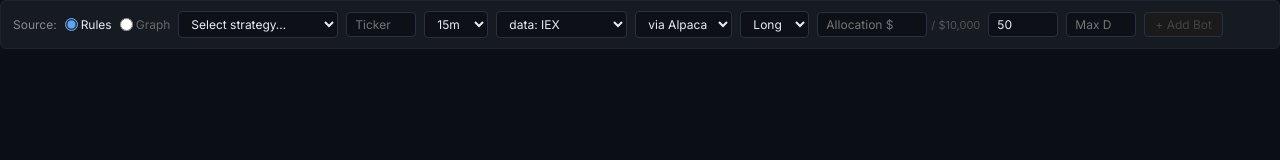
Test case: AddBotBar group selector (S36) › a 400 with diagnostics shows the first message and keeps Create off for that rev
Click the radio button labelled "Graph": (126, 24) [120, 18, 133, 31]
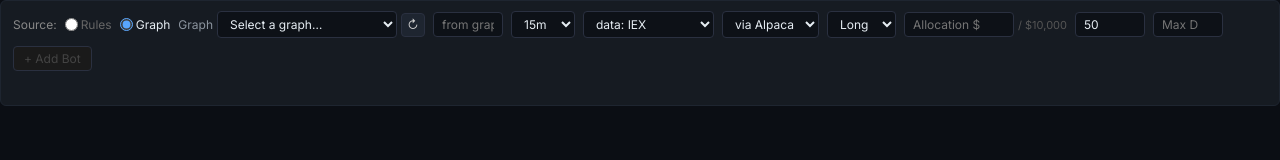
Expected: the dropdown with test id "addbot-graph-select" is enabled
Select "pair_aapl_msft · 4 nodes" in the dropdown with test id "addbot-graph-select": (307, 24) [217, 11, 397, 38]
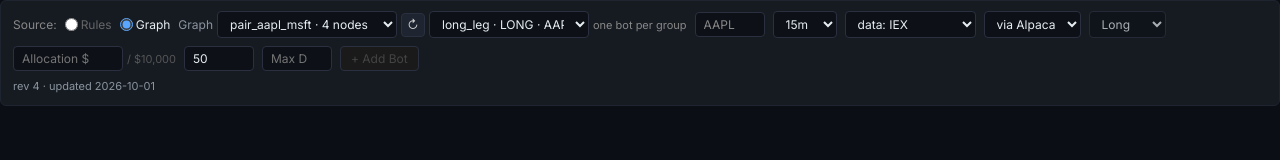
Expected: the dropdown named "Output group" is enabled, [429, 11, 589, 38]
In the number field with placeholder "Allocation $": (68, 58) [13, 46, 123, 71], type "1000"
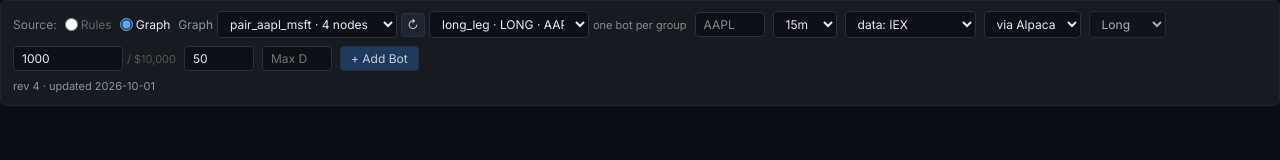
Click the button with test id "addbot-add": (379, 58) [340, 46, 419, 71]
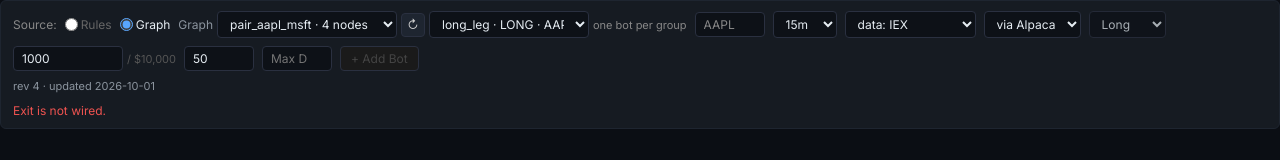
Expected: the text "Exit is not wired." is shown, [13, 103, 106, 118]
Expected: the button with test id "addbot-add" is disabled, [340, 46, 419, 71]
